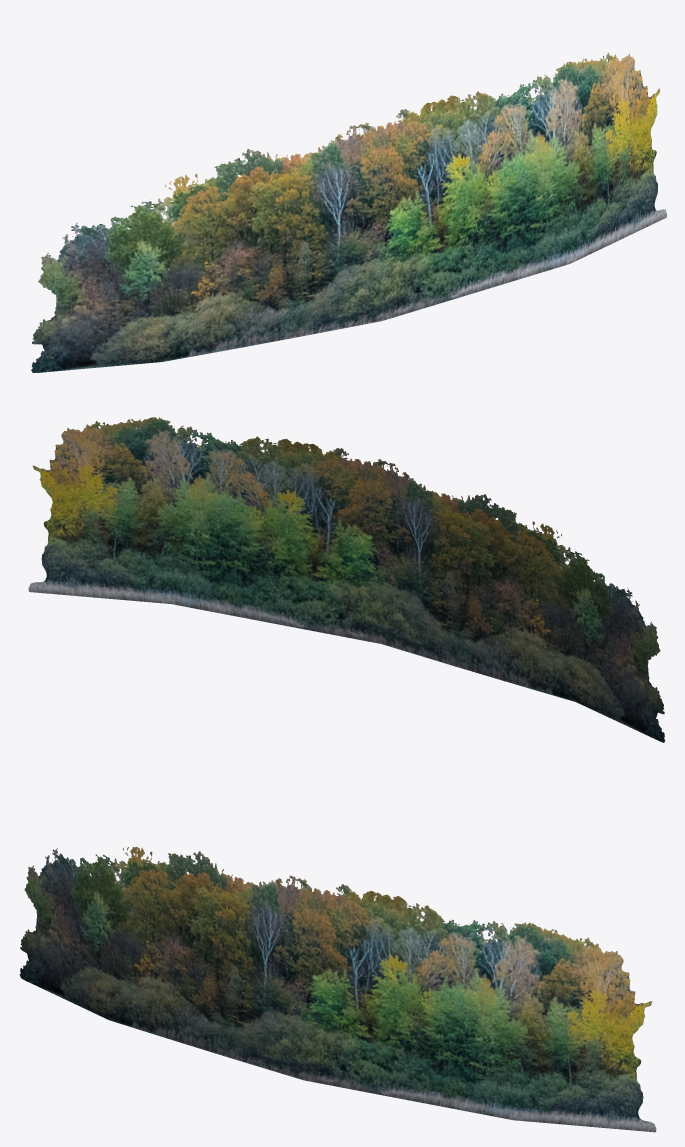
File: TreeLine01.fbx
3 views of the same model, one above another, from view 1: azimuth 30°, elevation 25°; view 2: azimuth 150°, elevation 25°; view 3: azimuth 330°, elevation 25° (orthographic).
Visible parts, largest first — view 1: TreeLine01; view 2: TreeLine01; view 3: TreeLine01.
Part boxes in pixels (<box>): TreeLine01: <box>31,52,666,372</box>; TreeLine01: <box>28,417,665,742</box>; TreeLine01: <box>19,847,656,1132</box>.
Size of the model in its own units: 4.89 by 1.48 by 0.5821.
1 material, 1 textured.
